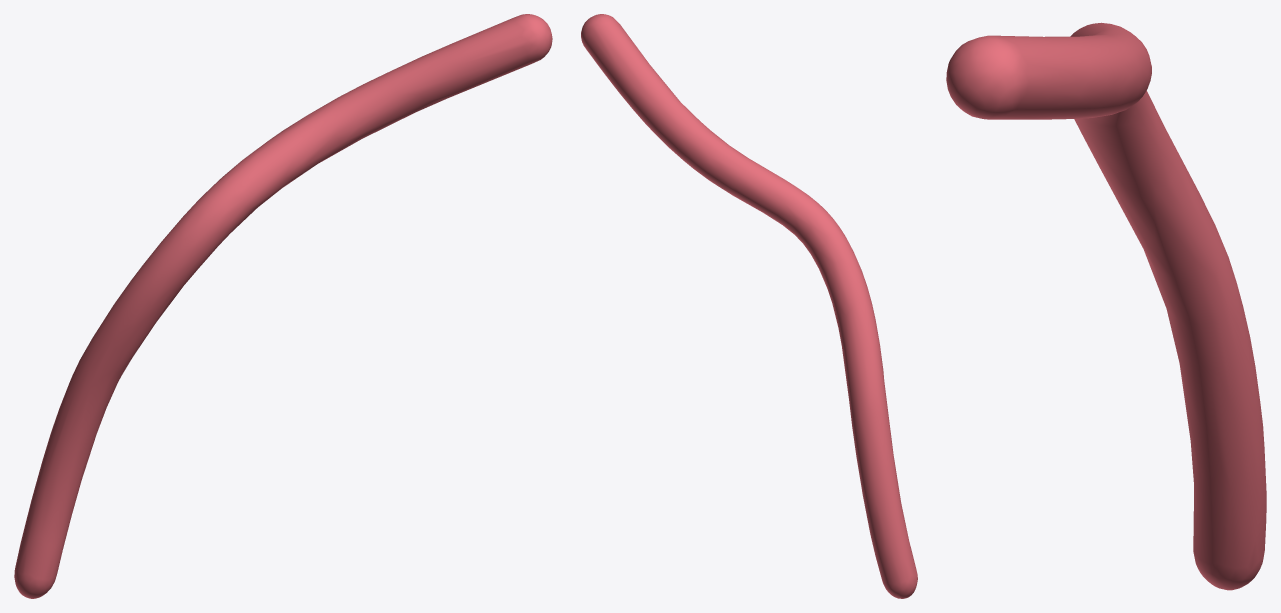
Rendered from fma22655_fj2268.glb.
3 views of the same model, side by side, from view 1: azimuth 30°, elevation 25°; view 2: azimuth 150°, elevation 25°; view 3: azimuth 270°, elevation 25° (orthographic). The views are drawn at different scales.
Parts seen in each view (by area): view 1: FMA22655_FJ2268; view 2: FMA22655_FJ2268; view 3: FMA22655_FJ2268.
Boxes of the visible parts, <box> form: FMA22655_FJ2268: <box>14,14,552,598</box>; FMA22655_FJ2268: <box>581,14,917,598</box>; FMA22655_FJ2268: <box>946,22,1266,590</box>.
Bounding box in the file's own units: 0.0745 × 0.0817 × 0.0264.
